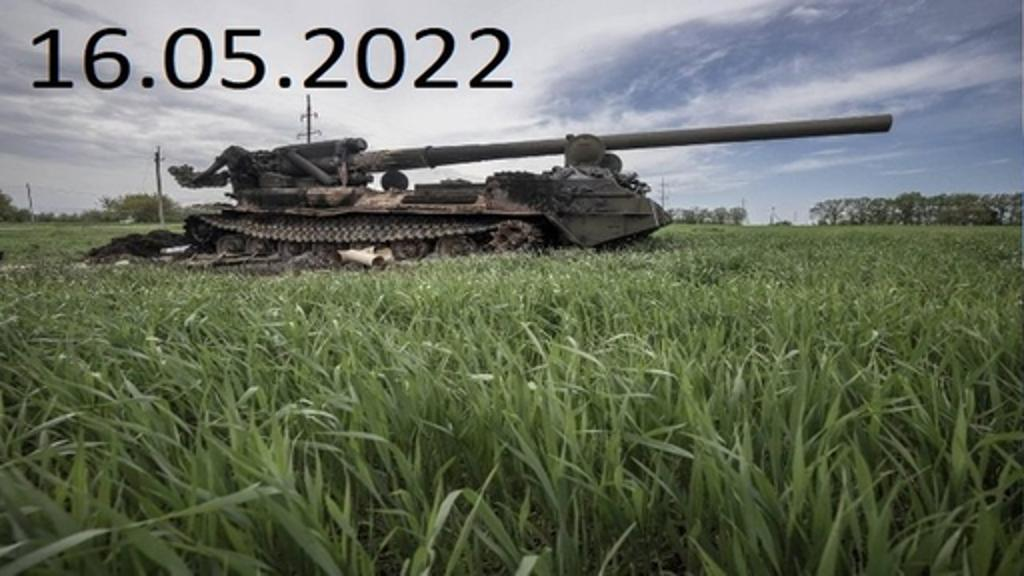ART: (178, 106, 900, 268)
